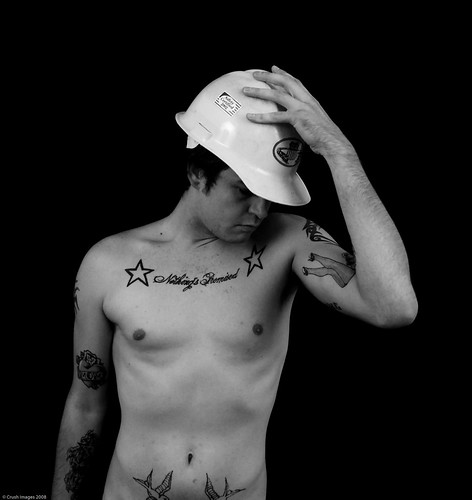person hardhat: (46, 64, 413, 500)
